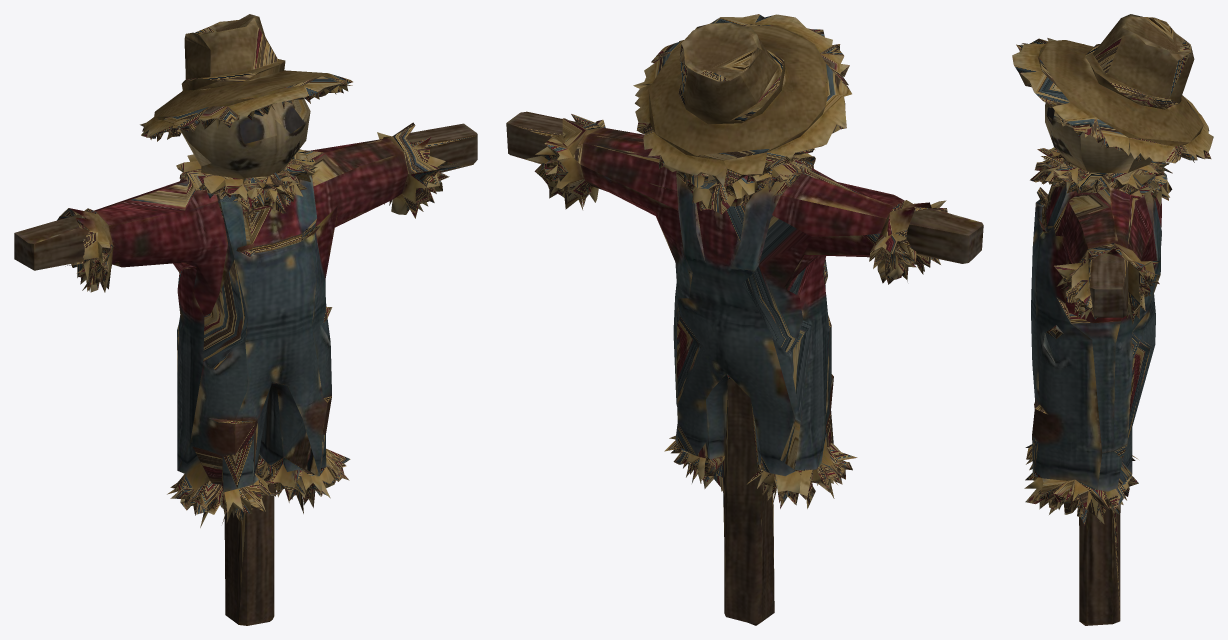
The model's file is prop-scarecrow.glb.
3 renders of one model, left to right at view 1: azimuth 30°, elevation 25°; view 2: azimuth 150°, elevation 25°; view 3: azimuth 270°, elevation 25°, orthographic. The views are drawn at different scales.
Parts seen in each view (by area): view 1: world; view 2: world; view 3: world.
Part boxes in pixels (x1=…): world: x1=14, y1=14, x2=477, y2=625; world: x1=506, y1=14, x2=983, y2=625; world: x1=1012, y1=14, x2=1213, y2=625.
Bounding box in the file's own units: 0.8065 × 1 × 0.3069.
Materials: 1 (1 with a texture image).
